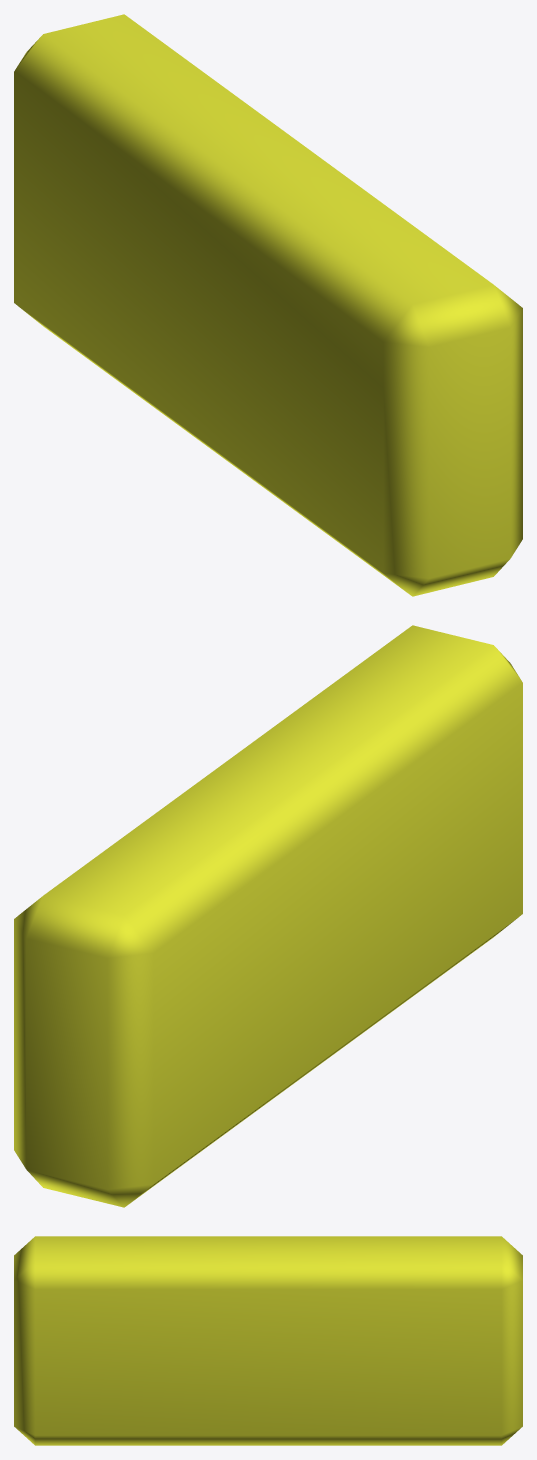
Rendered from Player.fbx.
3 views of the same model, one above another, from view 1: azimuth 30°, elevation 25°; view 2: azimuth 150°, elevation 25°; view 3: azimuth 270°, elevation 25° (orthographic). The views are drawn at different scales.
Visible parts, largest first — view 1: player1; view 2: player1; view 3: player1.
Part boxes in pixels (x1,y1,x2,y2): player1: [14, 14, 522, 596]; player1: [14, 625, 522, 1207]; player1: [14, 1236, 522, 1445].
Bounding box in the file's own units: 0.2 × 0.4 × 1.
